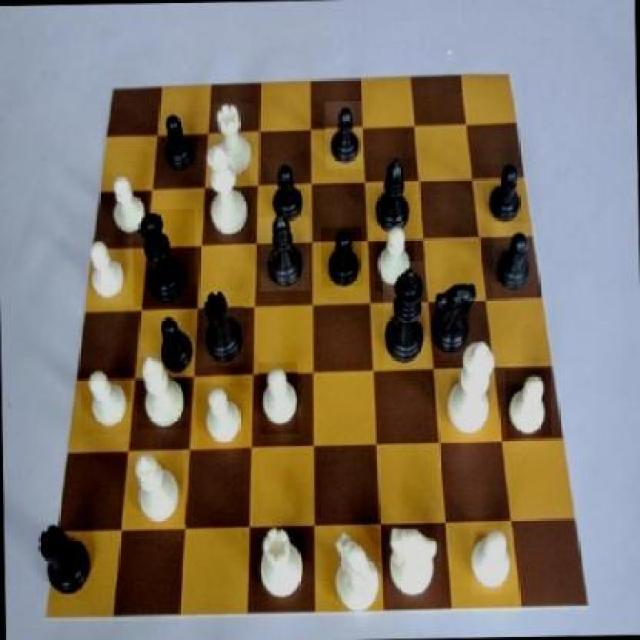bishop: (260, 217, 311, 292), (375, 156, 418, 237)
black-bishop: (382, 262, 428, 368)
black-king: (432, 278, 482, 366)
black-knight: (492, 222, 537, 299), (149, 315, 197, 373), (154, 110, 200, 168), (320, 226, 363, 287), (325, 101, 362, 170), (268, 160, 305, 227), (485, 164, 522, 223)
black-pawn: (134, 208, 197, 305)
black-queen: (36, 520, 96, 600), (203, 291, 246, 366)
black-rook: (128, 454, 187, 526), (136, 357, 187, 430)
white-bishop: (448, 340, 498, 440)
white-king: (384, 523, 440, 608), (326, 536, 383, 614)
white-knight: (78, 366, 134, 434), (197, 382, 251, 448), (504, 371, 550, 440), (86, 239, 133, 306), (471, 528, 517, 595), (103, 174, 150, 237), (258, 362, 298, 434), (376, 224, 416, 292)
white-pawn: (197, 141, 251, 237)
white-queen: (255, 523, 308, 601), (211, 103, 257, 180)
